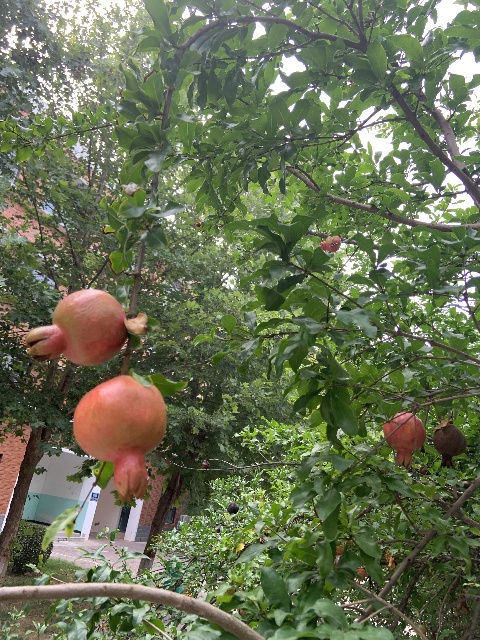ripe: (72, 375, 167, 503), (23, 289, 127, 366), (383, 412, 426, 470), (319, 235, 341, 252)
